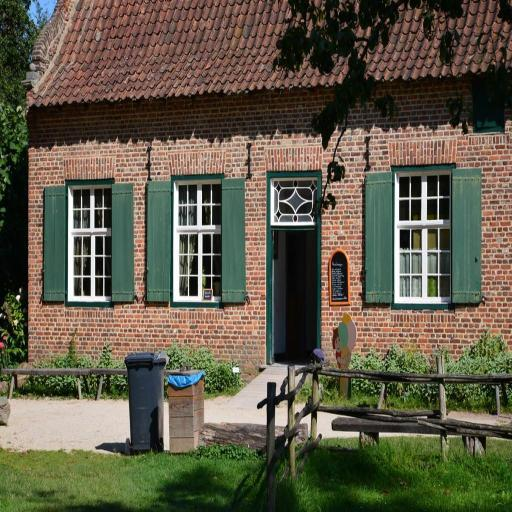trash-can: (122, 340, 171, 460), (164, 364, 207, 462)
